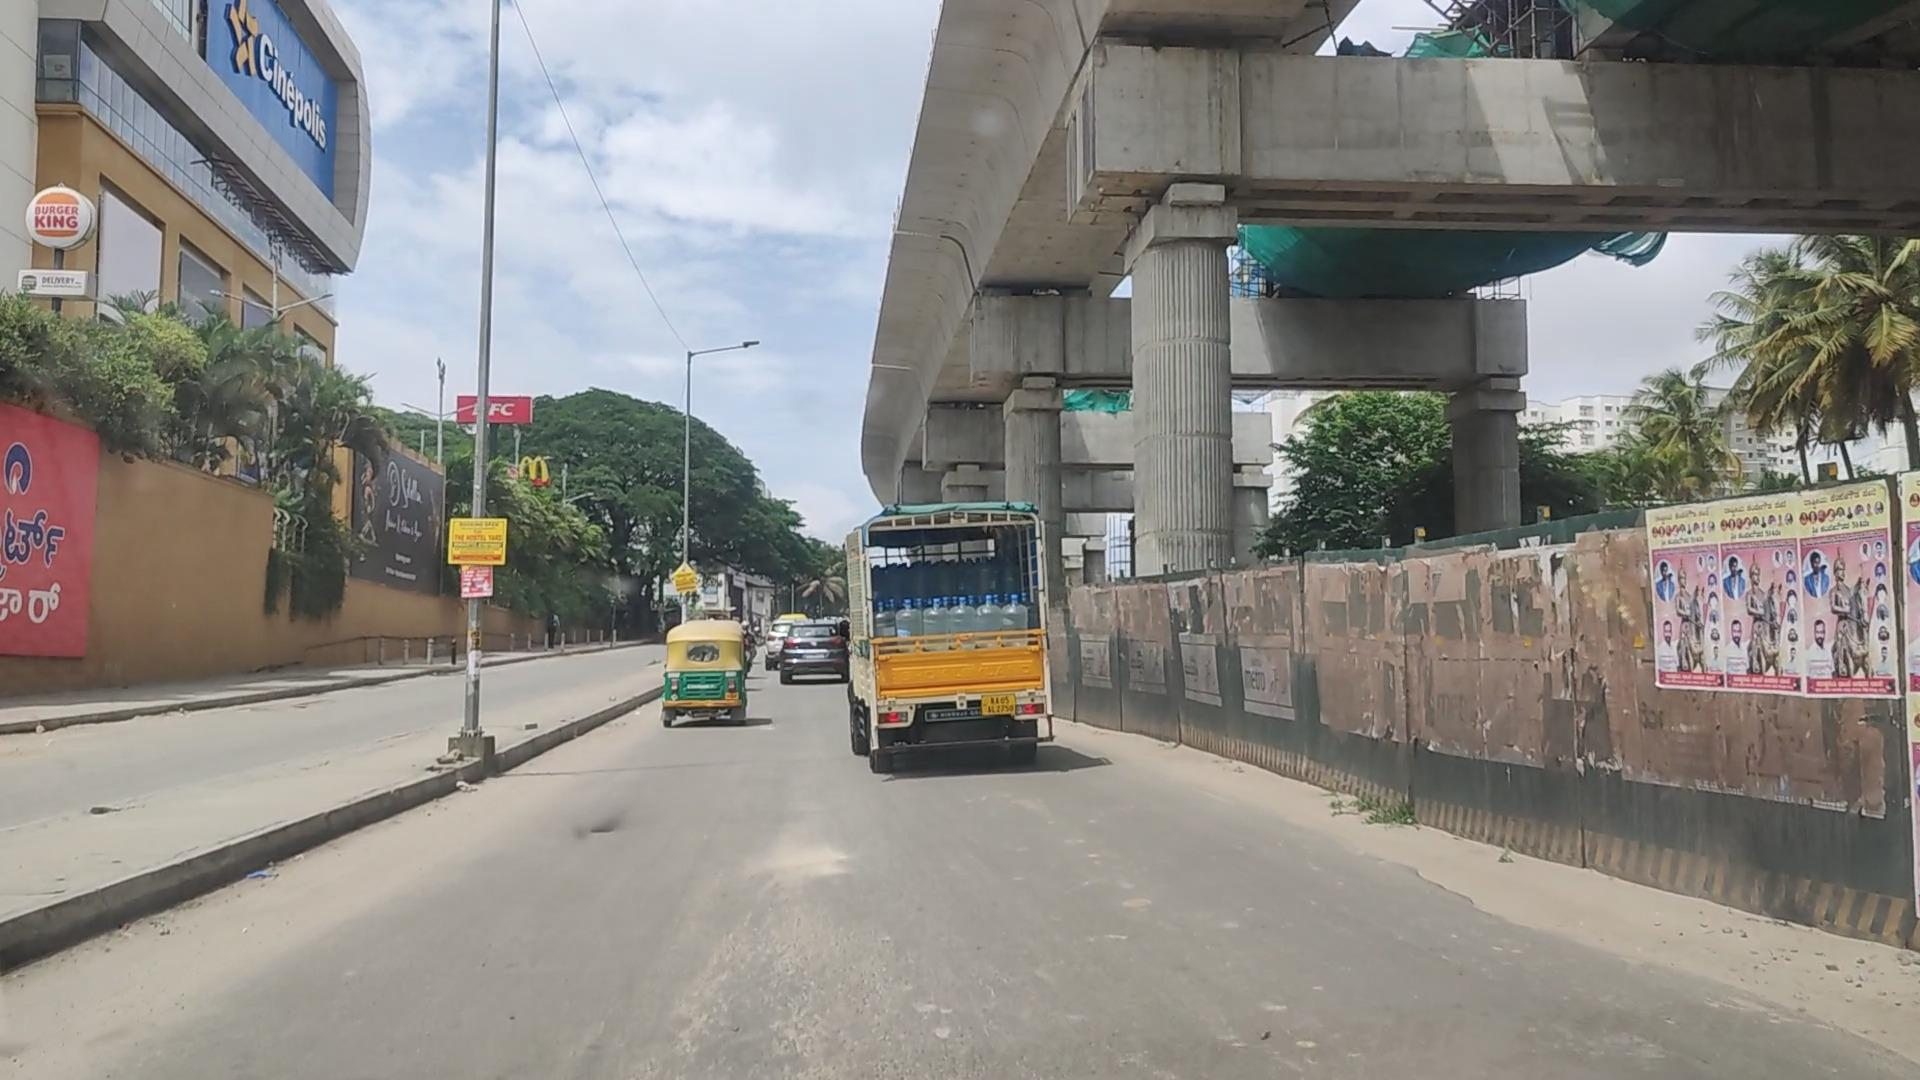HMV: (851, 493, 1064, 779)
LMV: (661, 624, 758, 735)
